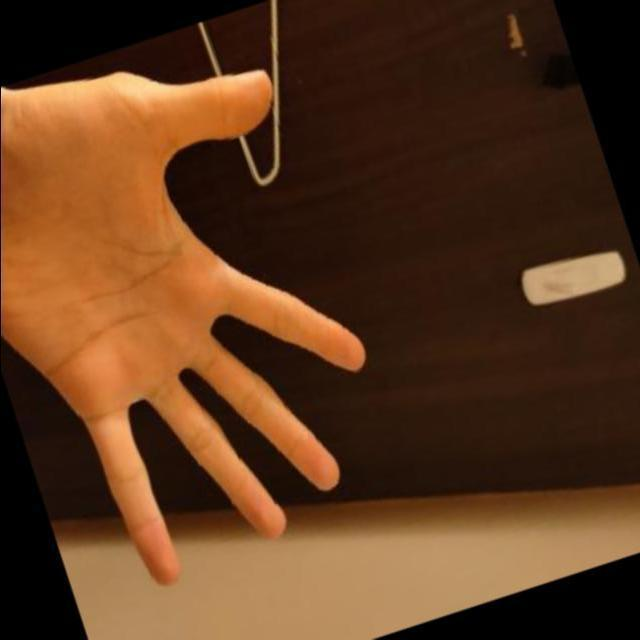hand: (0, 1, 434, 630)
